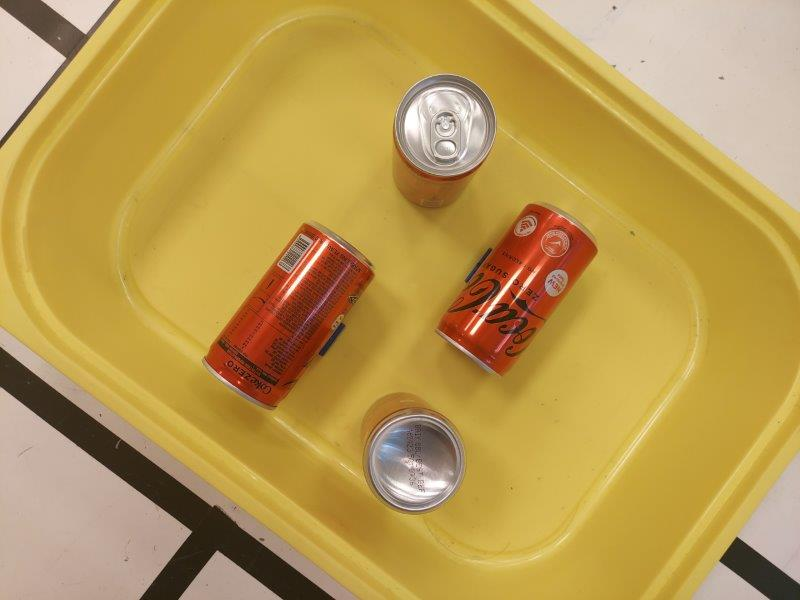Coke: (200, 221, 376, 414), (438, 203, 599, 379), (393, 74, 495, 211), (360, 393, 465, 516)
